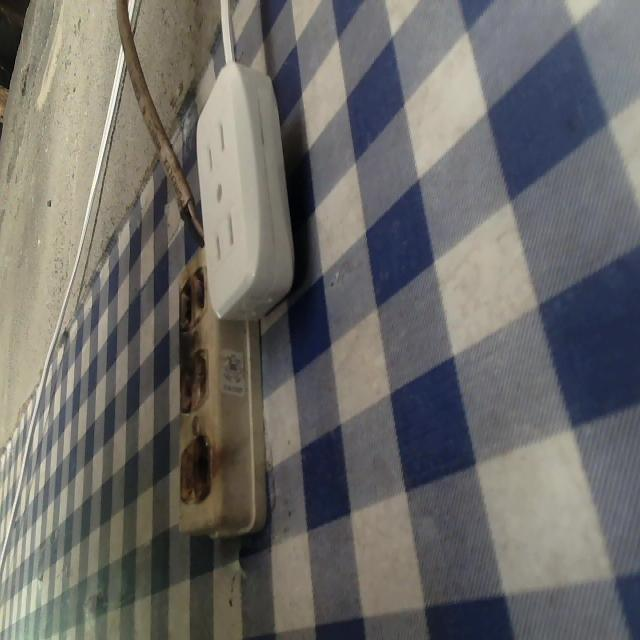-: (176, 430, 221, 502), (172, 261, 210, 331), (176, 348, 213, 412)
